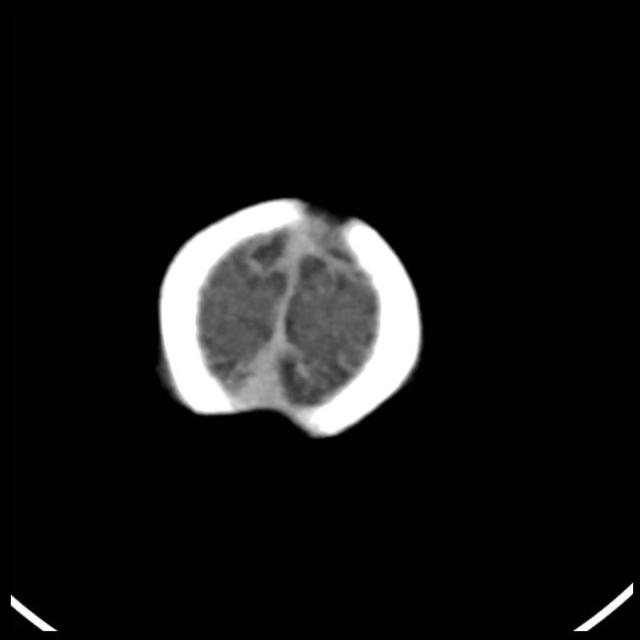lesion: (153, 193, 425, 441)
